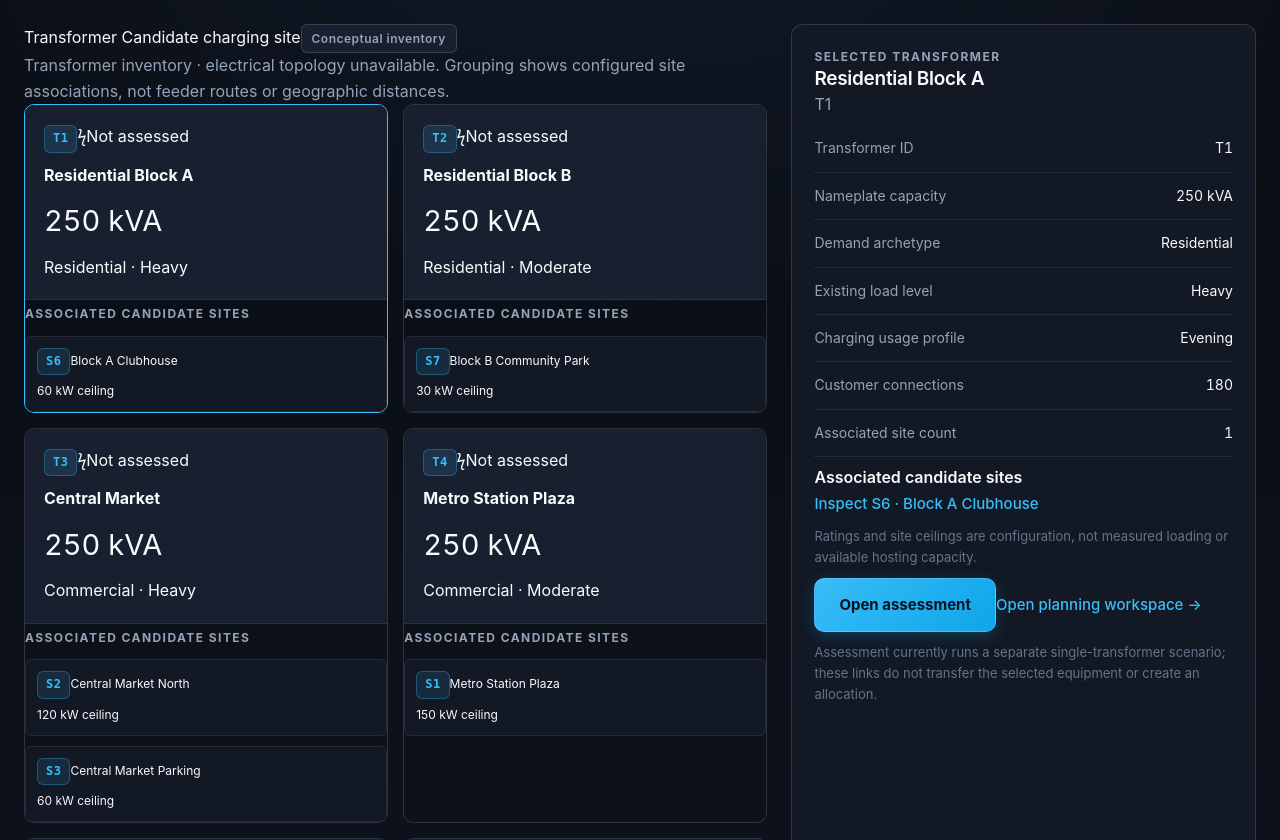
Test: API-backed network explorer › allows inspection from the transformer associated-site list
Click the button "Inspect S6 · Block A Clubhouse" at [926, 504], box [814,492,1039,516]
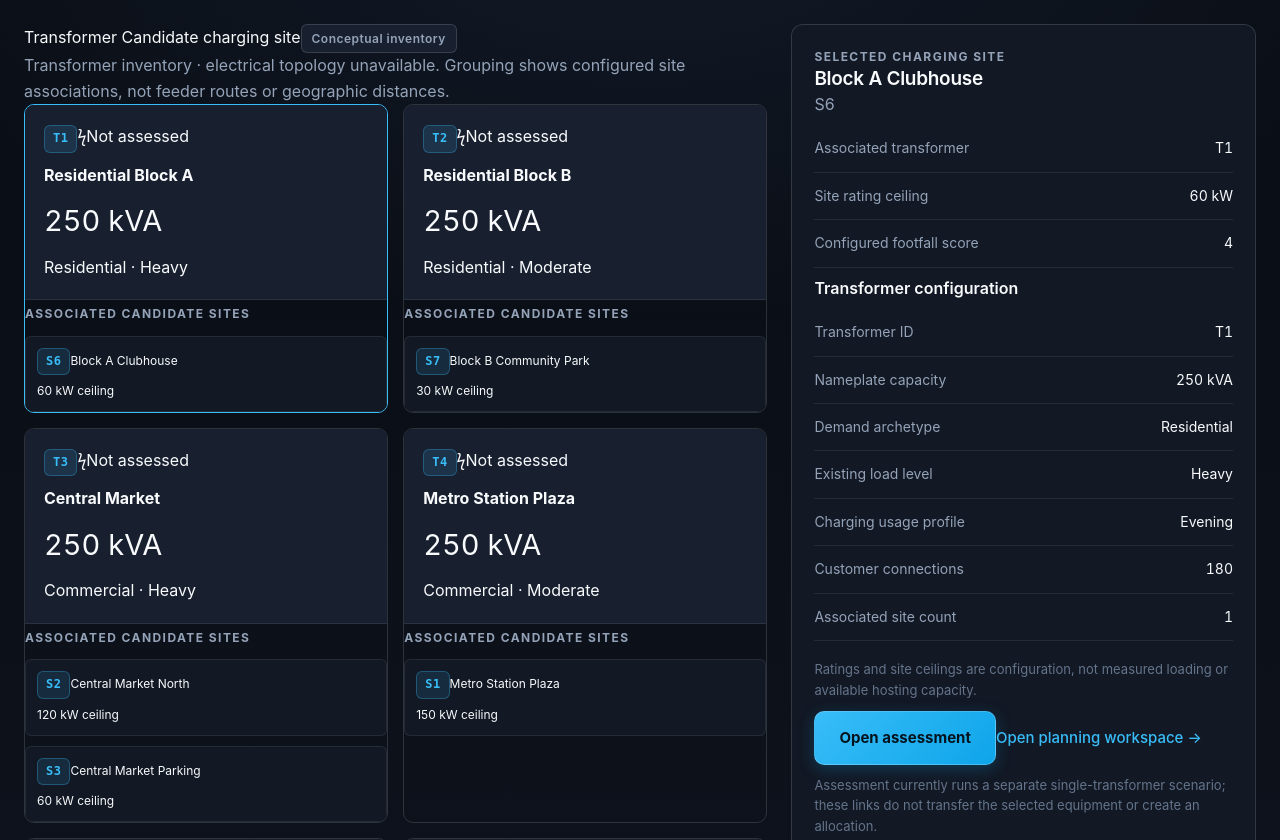
expect the heading "Block A Clubhouse" is shown: met, box [814,67,983,90]
